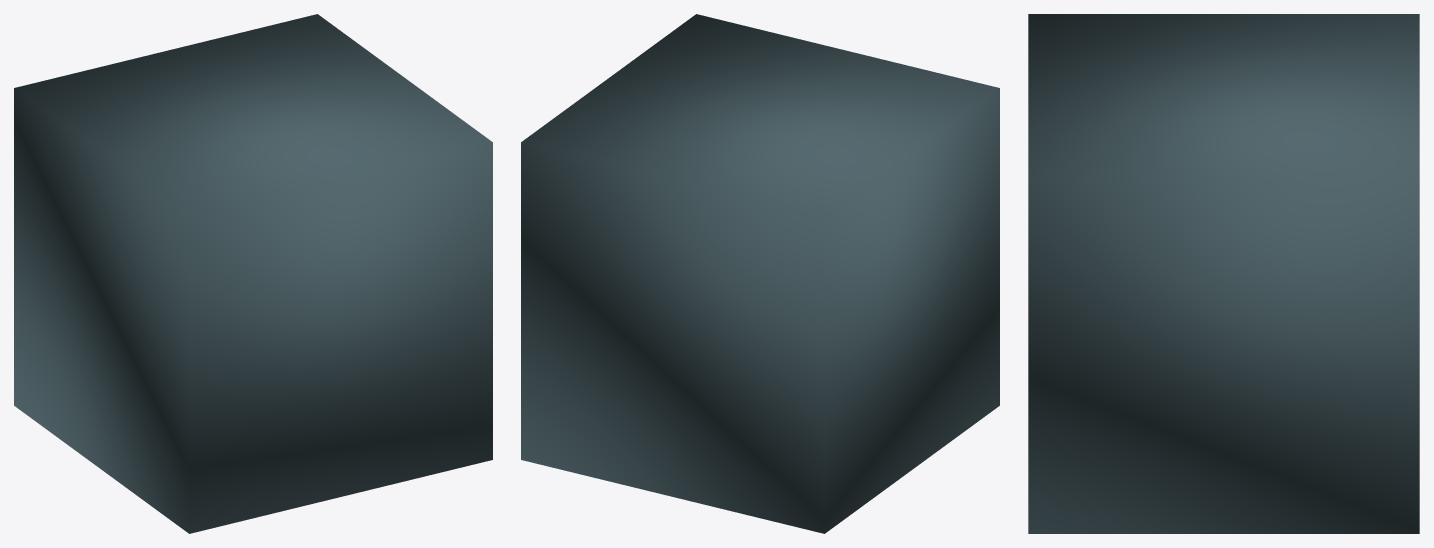
The picture shows the model from 3 angles, left to right: view 1: azimuth 30°, elevation 25°; view 2: azimuth 150°, elevation 25°; view 3: azimuth 270°, elevation 25°; orthographic projection. The views are drawn at different scales.
Parts seen in each view (by area): view 1: Background; view 2: Background; view 3: Background.
Boxes of the visible parts, x1,y1,x2,y2 form: Background: (14,14,492,533); Background: (521,14,999,533); Background: (1028,14,1419,533).
Bounding box in the file's own units: 11 × 12.07 × 11.
Materials: 7 (2 with a texture image).
